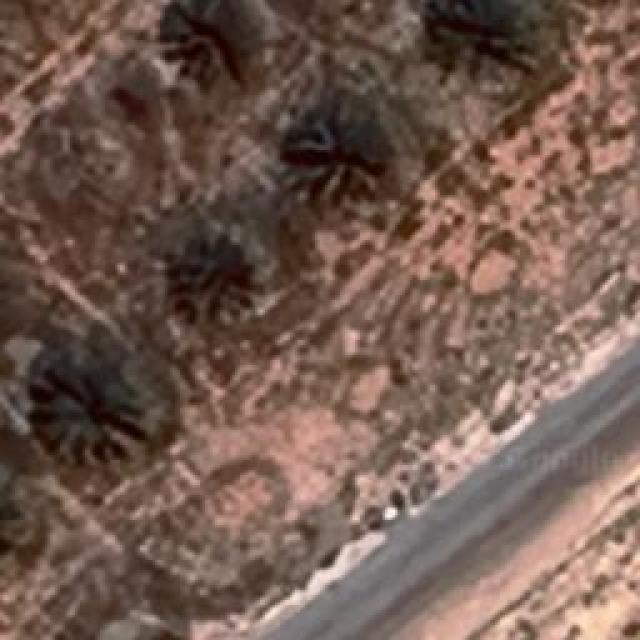PalmTree: (74, 80, 222, 274), (12, 107, 74, 515), (420, 0, 538, 80), (39, 370, 142, 460), (158, 0, 258, 80), (298, 110, 388, 190), (0, 466, 18, 568)
